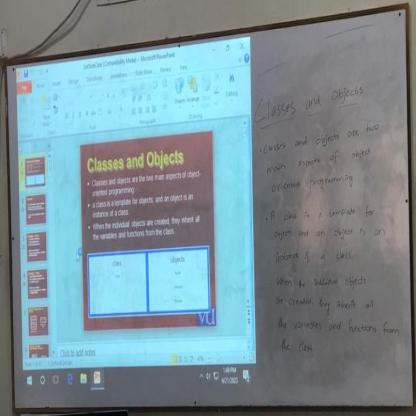Handwritten text: (243, 66, 379, 132), (256, 111, 386, 162), (259, 135, 377, 179), (275, 315, 403, 342), (265, 165, 357, 199), (266, 198, 379, 223), (271, 222, 390, 244), (273, 291, 376, 316), (273, 246, 356, 269), (273, 272, 369, 290), (277, 336, 318, 361)
Whiteboard: (4, 4, 414, 416)
